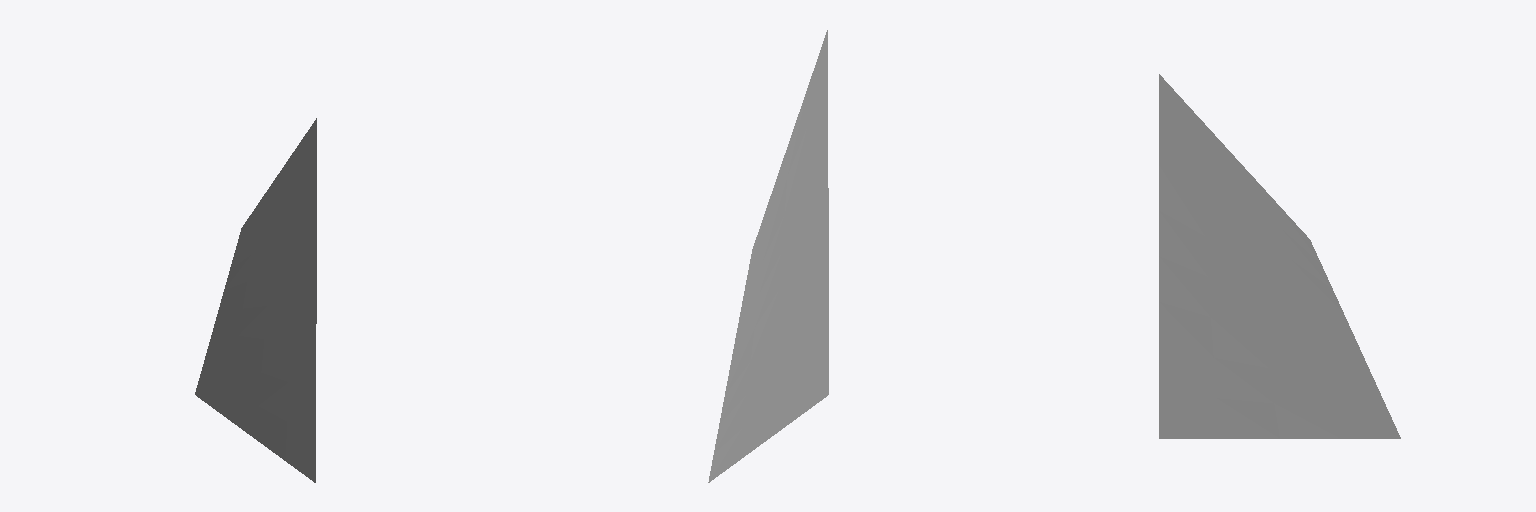
The model's file is sail2.obj.
3 renders of one model, left to right at view 1: azimuth 30°, elevation 25°; view 2: azimuth 150°, elevation 25°; view 3: azimuth 270°, elevation 25°, orthographic.
Visible parts, largest first — view 1: Plane.001; view 2: Plane.001; view 3: Plane.001.
Part boxes in pixels (left/top/right/bottom): Plane.001: left=195, top=118, right=316, bottom=482; Plane.001: left=708, top=30, right=828, bottom=482; Plane.001: left=1159, top=74, right=1400, bottom=438.
Size of the model in its own units: 0.0594 by 14.48 by 8.69.